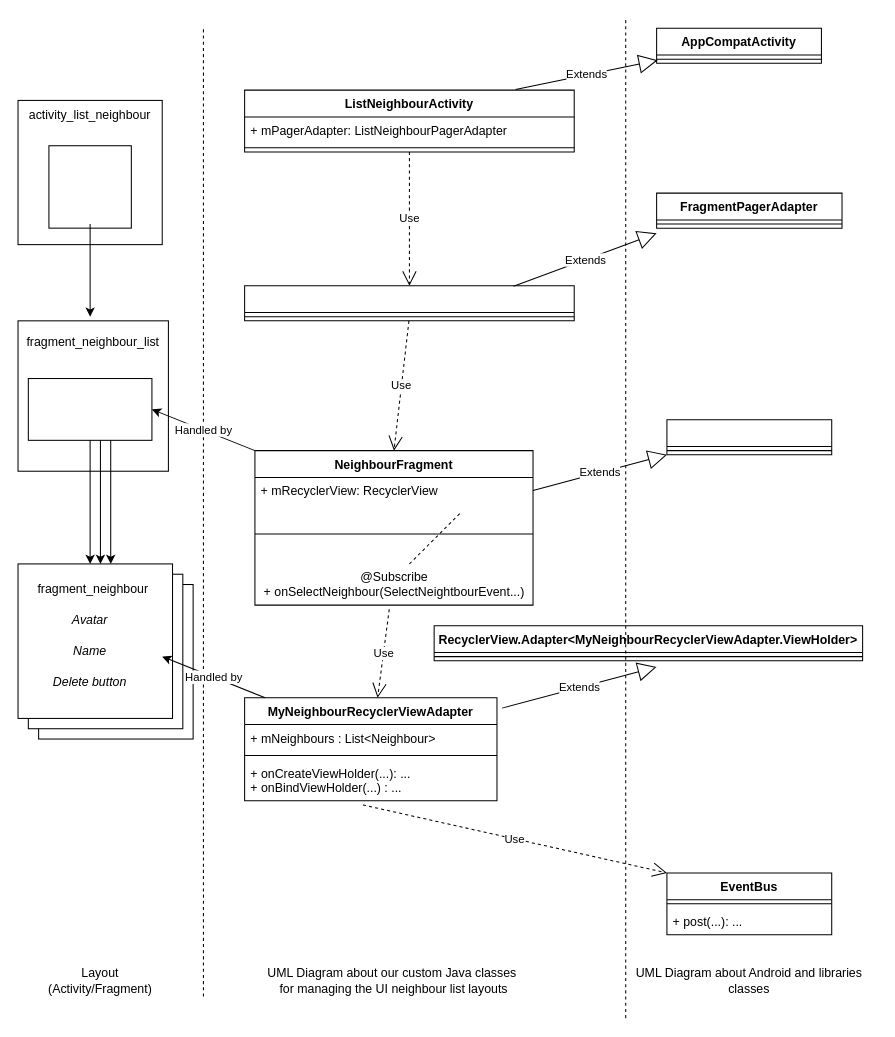
This 895x1037 diagram has some shape labels left out. The centre of each missing label's shape, as x and y in pixels:
container : ViewPager: point (89, 186)
Fragment: point (749, 437)
ListNeighbourPagerAdapter: point (409, 303)
listneighbours : RecyclerView: point (89, 408)
